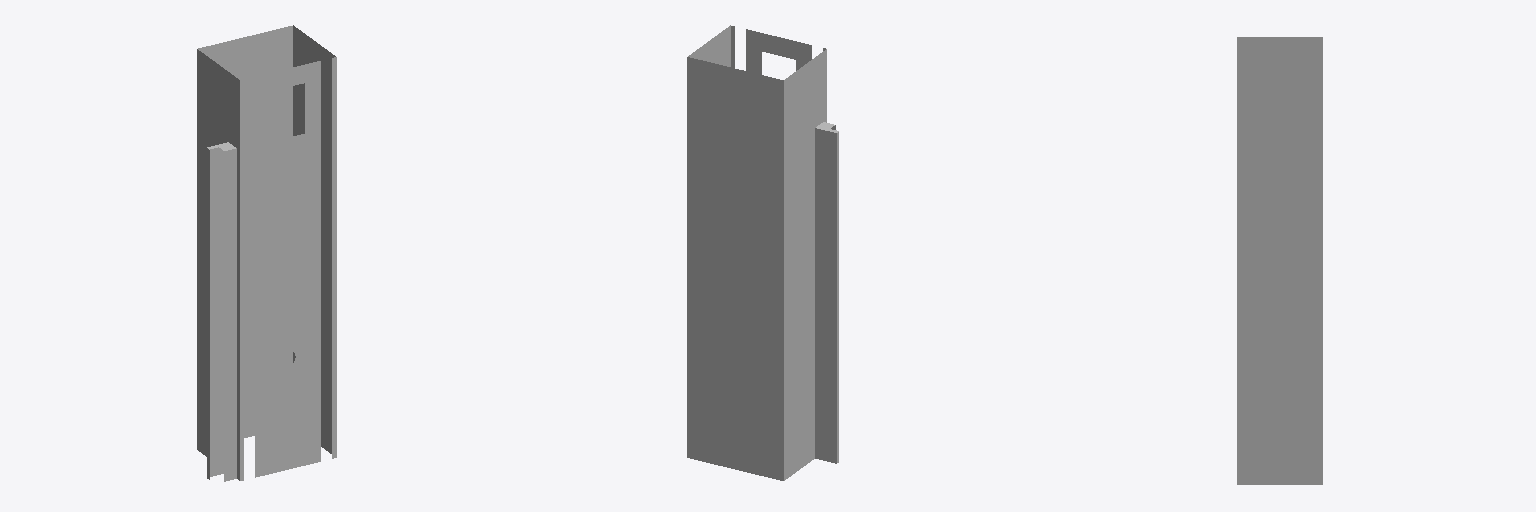
File: a3_cut_0__3_1.obj
The picture shows the model from 3 angles: view 1: azimuth 30°, elevation 25°; view 2: azimuth 150°, elevation 25°; view 3: azimuth 270°, elevation 25°; orthographic projection.
Visible parts, largest first — view 1: 0; view 2: 0; view 3: 0.
Part boxes in pixels (bbox=[...]): 0: bbox=[197, 25, 336, 481]; 0: bbox=[687, 25, 838, 480]; 0: bbox=[1237, 37, 1322, 484].
Size of the model in its own units: 245 by 796 by 155.